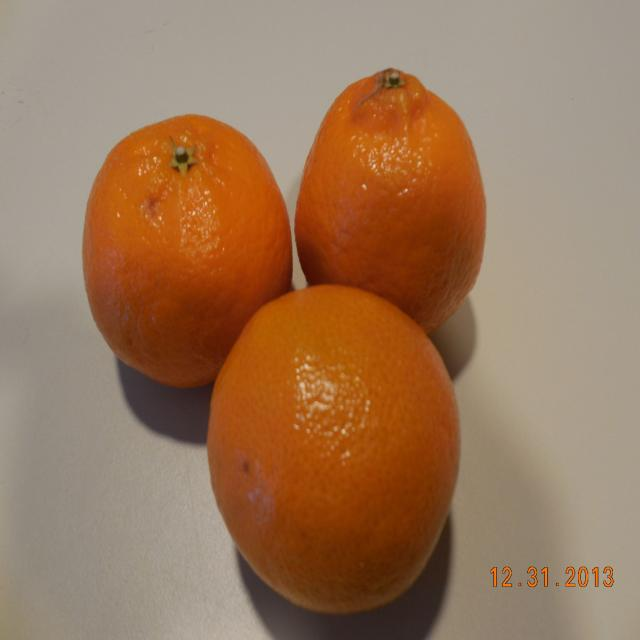Orange: (198, 286, 460, 616), (82, 114, 298, 387), (294, 66, 488, 332)
